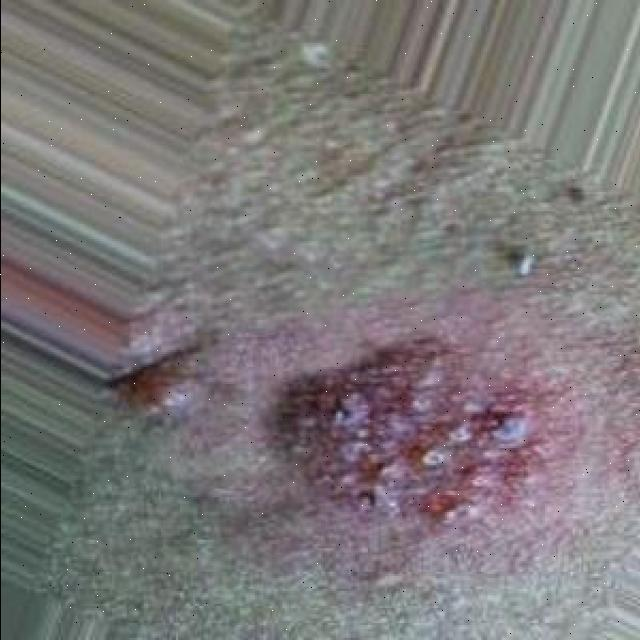Shingles: (272, 333, 551, 518)
